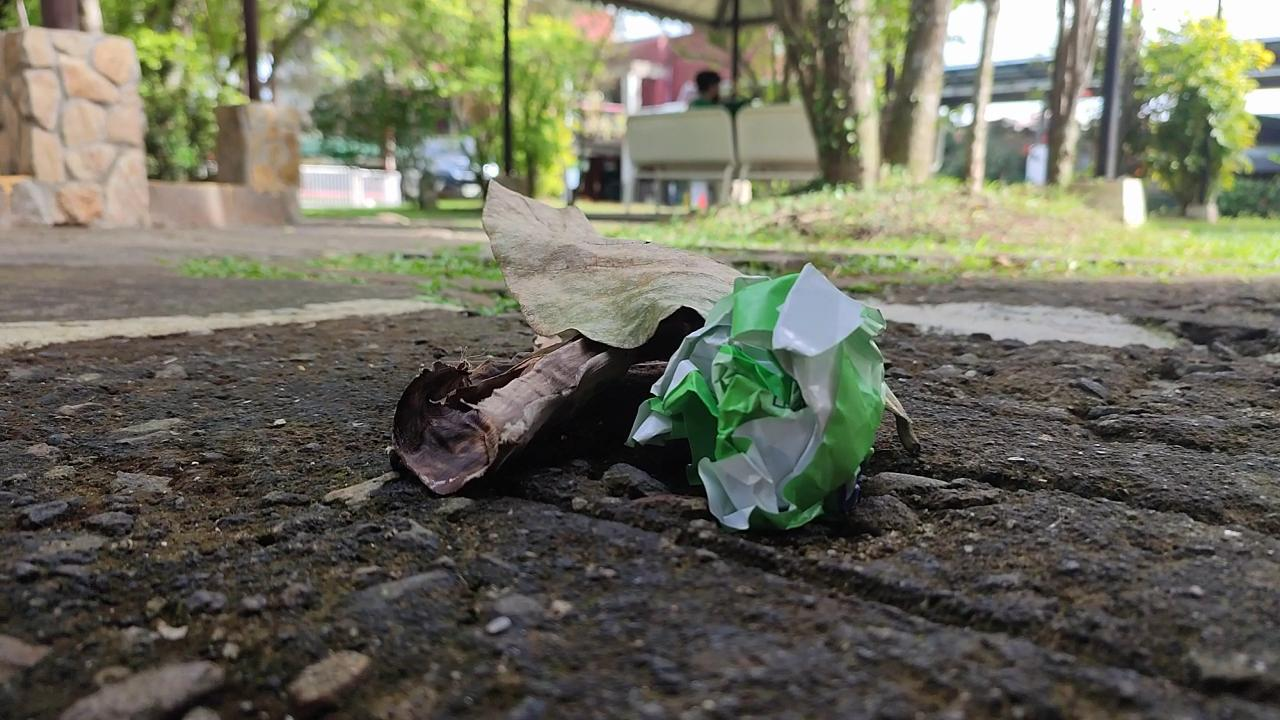Paper: (615, 247, 906, 549)
